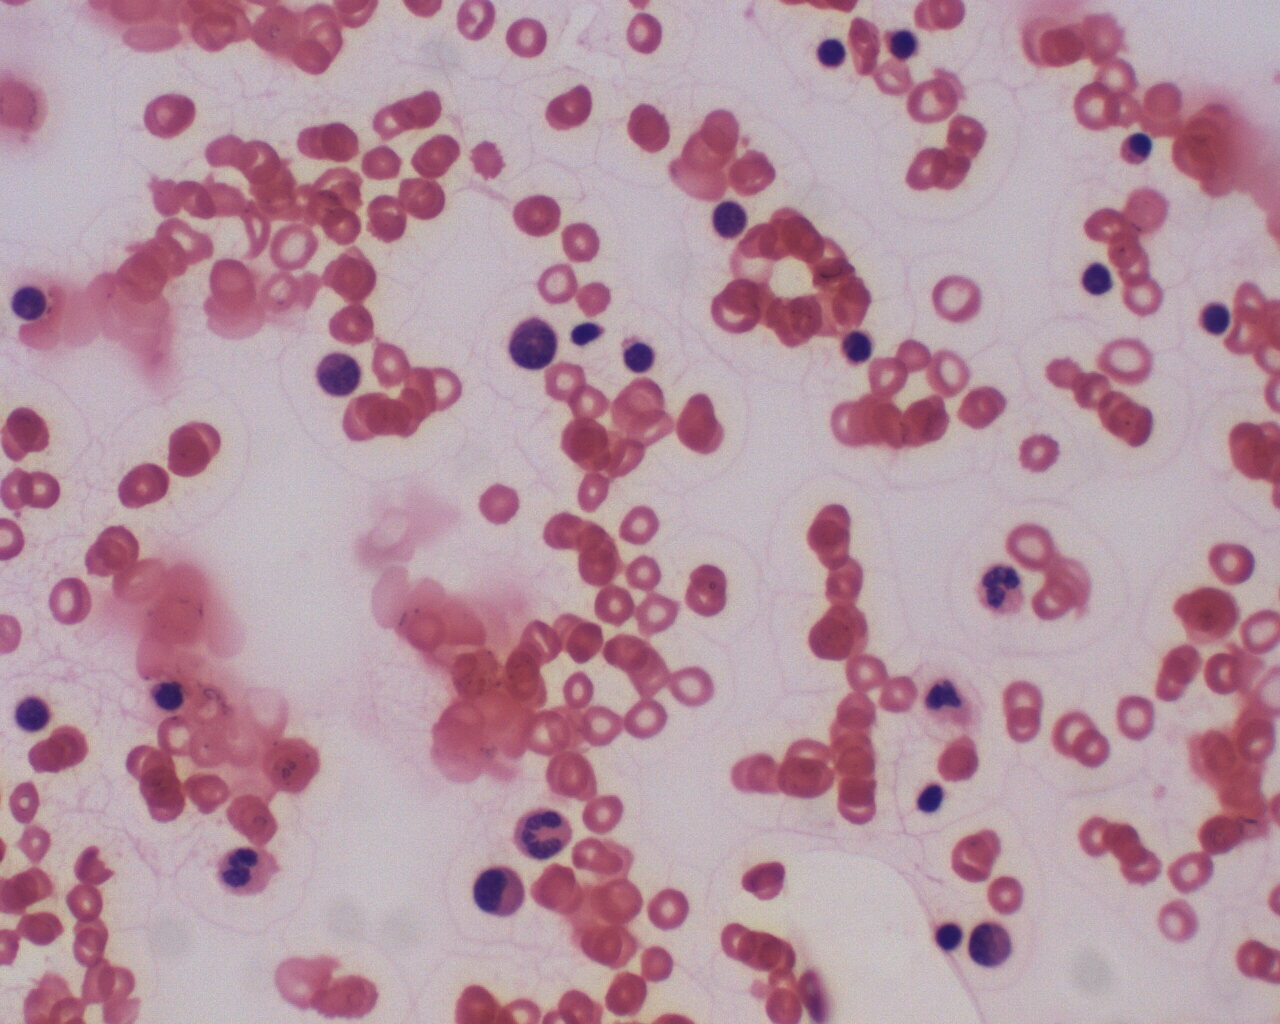lymph: (498, 308, 559, 380), (311, 348, 369, 401), (1070, 255, 1131, 303), (707, 193, 754, 242), (1193, 298, 1235, 345), (811, 31, 850, 76), (840, 326, 875, 369), (931, 917, 969, 956), (621, 334, 657, 374)
neutro: (506, 801, 588, 865), (965, 558, 1035, 623)
